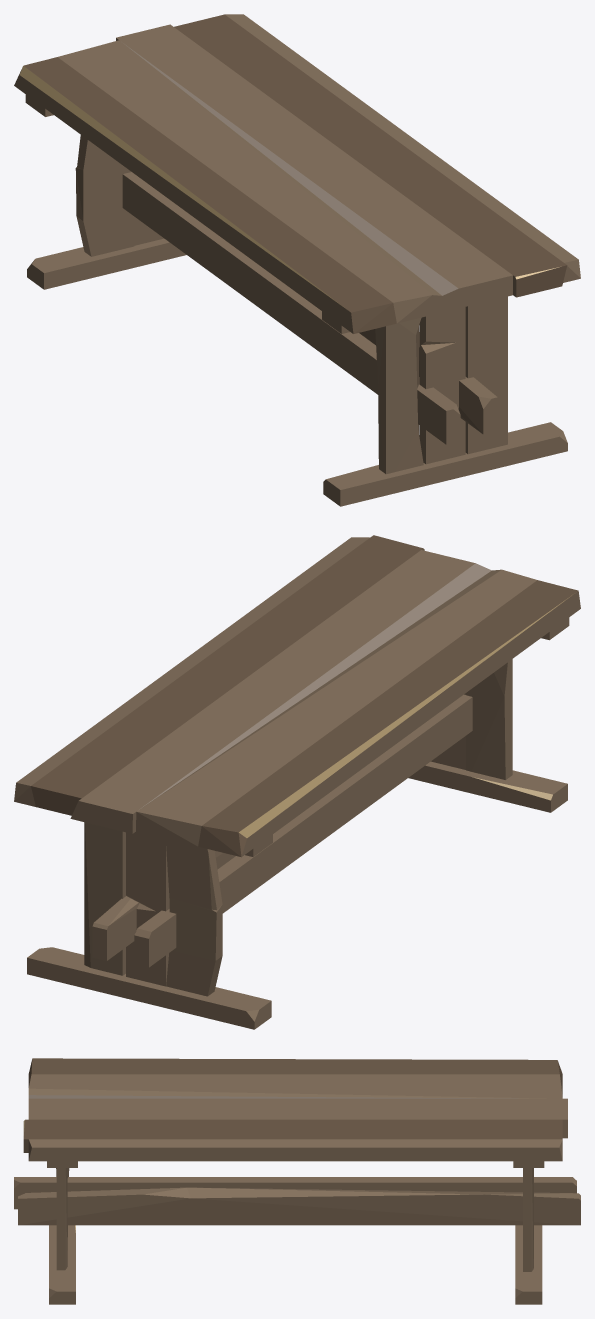
The model's file is EA03_Prop_Tabble_01a.glb.
3 views of the same model, one above another, from view 1: azimuth 30°, elevation 25°; view 2: azimuth 150°, elevation 25°; view 3: azimuth 270°, elevation 25° (orthographic). The views are drawn at different scales.
Visible parts, largest first — view 1: EA03_Prop_Tabble_01a; view 2: EA03_Prop_Tabble_01a; view 3: EA03_Prop_Tabble_01a.
Part boxes in pixels (x1,y1,x2,y2): EA03_Prop_Tabble_01a: (14,14,580,506); EA03_Prop_Tabble_01a: (14,535,580,1029); EA03_Prop_Tabble_01a: (14,1058,580,1304).
Size of the model in its own units: 0.9763 by 0.8324 by 2.68.
Materials: 1 (1 with a texture image).
